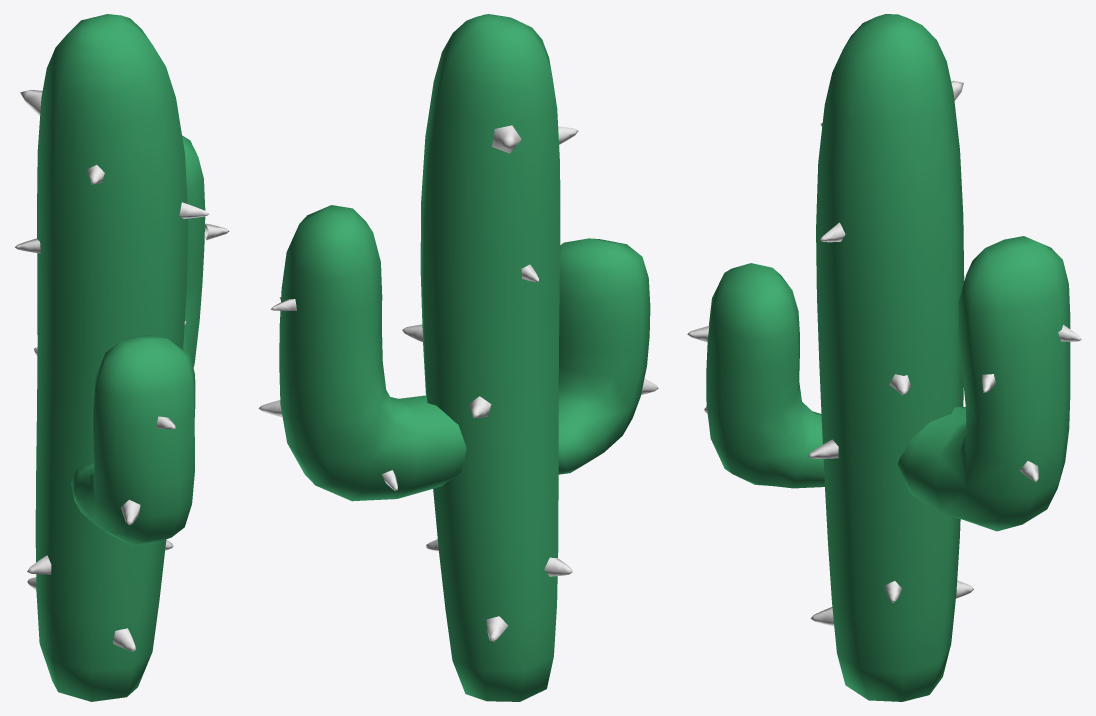
File: Cactus_Daniel_V01.fbx
3 renders of one model, left to right at view 1: azimuth 30°, elevation 25°; view 2: azimuth 150°, elevation 25°; view 3: azimuth 270°, elevation 25°, orthographic.
Visible parts, largest first — view 1: Cactus_low; view 2: Cactus_low; view 3: Cactus_low.
Boxes of the visible parts, bbox=[...] form: Cactus_low: bbox=[14, 14, 229, 701]; Cactus_low: bbox=[258, 14, 658, 701]; Cactus_low: bbox=[687, 14, 1081, 701].
Size of the model in its own units: 90.26 by 232 by 123.
